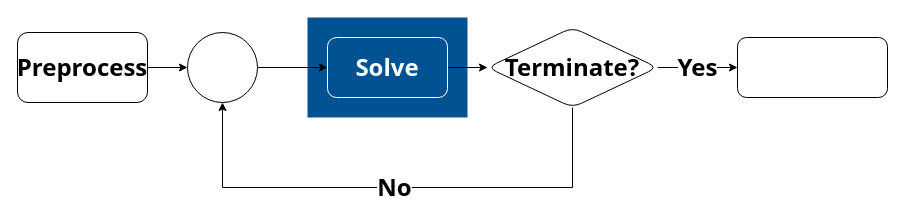
Some shapes in this 905 by 220 pixel diagram are drawn without their labels. The shapes that lost their labels are listed below. From the top down, each one's box as (x1, y1, x2, y2) in pixels, then its label:
(186, 32, 258, 102): Any
(736, 36, 888, 98): Postprocess
